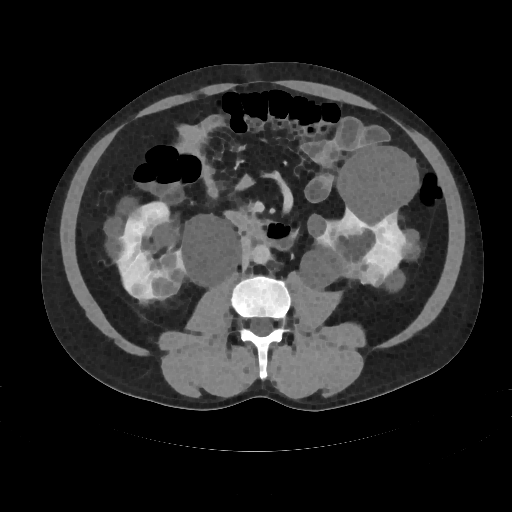Lesion: (363, 259, 385, 289)
